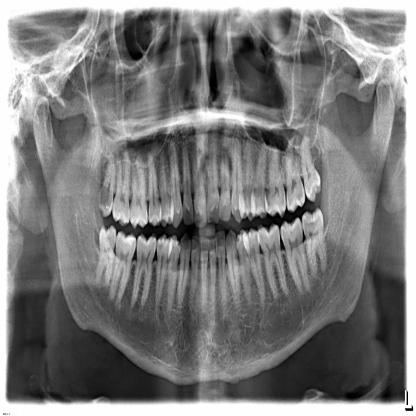canine: (231, 130, 245, 226), (226, 230, 241, 310), (177, 235, 192, 311), (170, 147, 183, 230)
central incisor: (191, 141, 207, 227), (207, 139, 221, 225), (208, 239, 217, 309), (200, 238, 208, 315)
lateral incisor: (215, 231, 227, 315), (182, 142, 193, 225), (190, 237, 201, 312), (220, 148, 231, 221)
mandible: (32, 78, 396, 386)
maxilla: (93, 124, 324, 232)
molar: (281, 219, 310, 294), (258, 225, 287, 298), (109, 232, 136, 306), (132, 236, 157, 312), (302, 207, 328, 277), (264, 142, 286, 216), (95, 224, 117, 294), (285, 137, 305, 212), (130, 155, 148, 230), (302, 138, 322, 204), (113, 154, 131, 227), (99, 160, 115, 215)
premolar: (245, 230, 266, 308), (239, 139, 257, 225), (251, 140, 268, 218), (155, 236, 171, 316), (159, 151, 174, 229), (167, 234, 181, 316), (237, 229, 251, 306), (147, 151, 161, 225)
